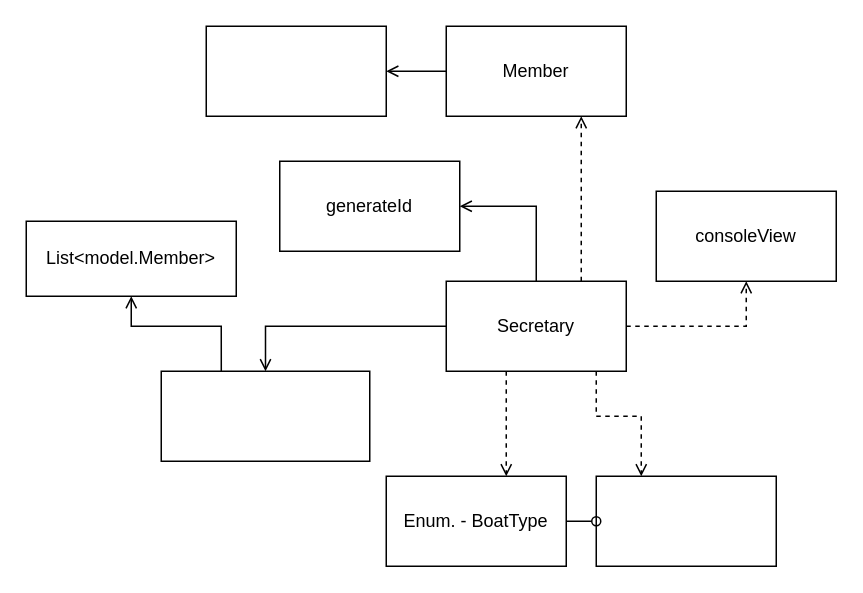
Image size: 863x593. Some labels were removed from this diagram. Each missing label, with the box of its shape:
Boat: (595, 475, 776, 566)
List<model.Boat>: (205, 25, 386, 116)
model.boatClubDAL: (160, 370, 370, 461)
